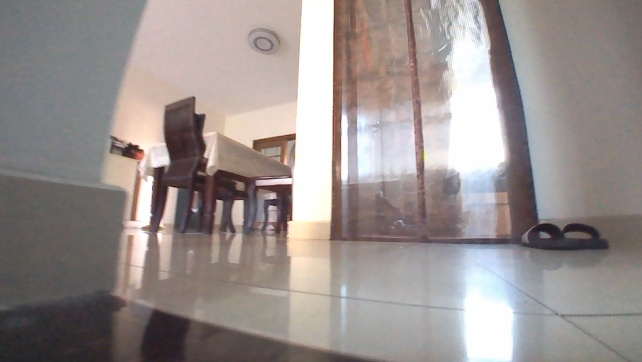dining_table: (137, 94, 292, 238)
slipper: (520, 219, 611, 253)
